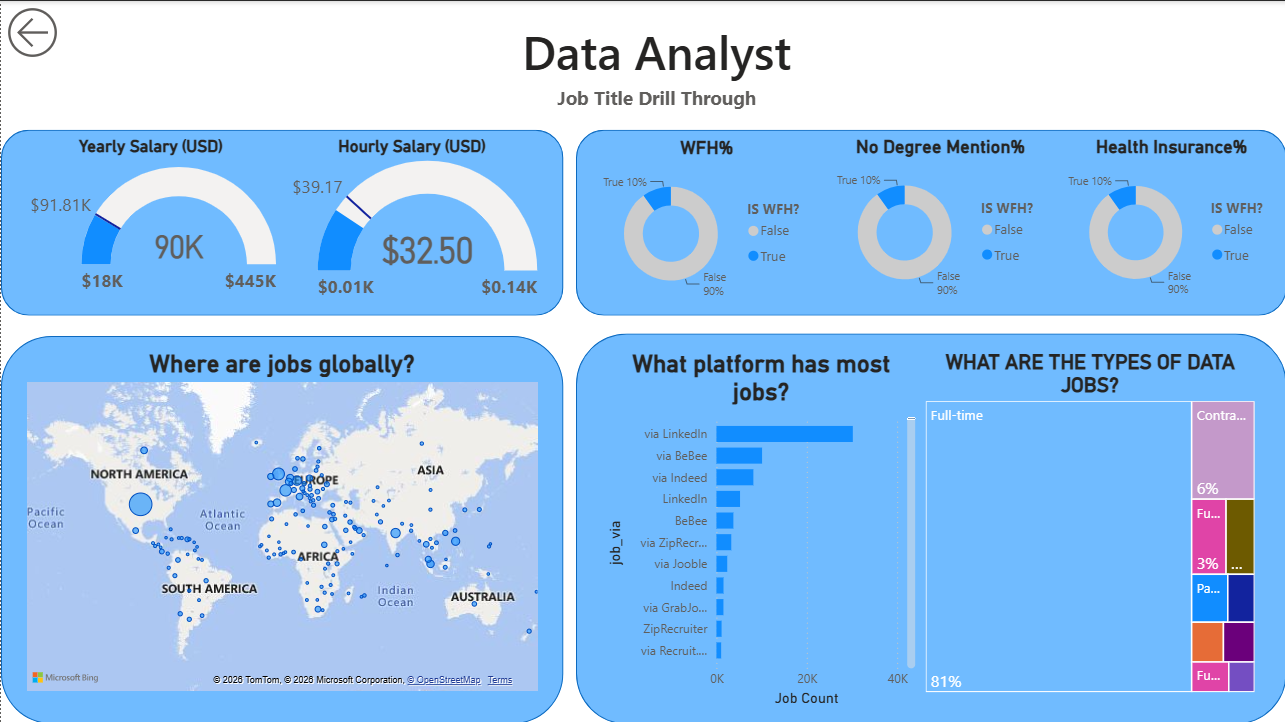

What the dashboard file says about the page in this screenshot:
{"tool":"powerbi","page":{"name":"Job Title Drill Through","canvas":[1280,720],"ordinal":1},"visuals":[{"type":"shape","box":[0,127.9,559.6,185.1],"z":0,"group":"g1"},{"type":"group","id":"g1","title":"Background","box":[0,127.9,1279.7,591.4],"z":500},{"type":"cardVisual","fields":{"Data":["Min(job_postings_flat.job_title_short)1"]},"box":[354.2,0,596.8,126.9],"z":1000},{"type":"shape","box":[572.6,127.9,707.1,185.1],"z":1000,"group":"g1"},{"type":"actionButton","box":[0,0,72.5,62.7],"z":2000},{"type":"shape","box":[0,333.2,559.6,386.1],"z":2000,"group":"g1"},{"type":"gauge","title":"Hourly Salary (USD)","fields":{"MinValue":["Min(job_postings_flat.salary_hour_avg)1"],"MaxValue":["Max(job_postings_flat.salary_hour_avg)"],"TargetValue":["Avg(job_postings_flat.salary_hour_avg)"],"Y":["Median(job_postings_flat.salary_hour_avg)"]},"box":[279.1,134.5,260.3,172.1],"z":3000},{"type":"gauge","title":"Yearly Salary (USD)","fields":{"Y":["Median(job_postings_flat.salary_year_avg)"],"MinValue":["Min(job_postings_flat.salary_year_avg)"],"MaxValue":["Max(job_postings_flat.salary_year_avg)1"],"TargetValue":["Avg(job_postings_flat.salary_year_avg)2"]},"box":[18.8,134.5,260.3,172.1],"z":4000},{"type":"shape","box":[572.6,330.3,707.1,389],"z":4000,"group":"g1"},{"type":"donutChart","title":"WFH%","fields":{"Category":["job_postings_flat.job_work_from_home"],"Y":["CountNonNull(job_postings_flat.job_work_from_home)"]},"box":[585.3,135.1,232.9,171.5],"z":5000},{"type":"donutChart","title":"Health Insurance%","fields":{"Category":["job_postings_flat.job_work_from_home"],"Y":["CountNonNull(job_postings_flat.job_work_from_home)"]},"box":[1049.8,134.5,230.1,171.5],"z":6000},{"type":"donutChart","title":"No Degree Mention%","fields":{"Category":["job_postings_flat.job_work_from_home"],"Y":["CountNonNull(job_postings_flat.job_work_from_home)"]},"box":[818.4,134.5,232.9,171.5],"z":7000},{"type":"map","title":"Where are jobs globally?","fields":{"Category":["job_postings_flat.job_country"],"Size":["CountNonNull(job_postings_flat.job_title_short)"]},"box":[21.7,347,517.7,345.6],"z":8000},{"type":"treemap","title":"WHAT ARE THE TYPES OF DATA JOBS?","fields":{"Group":["job_postings_flat.job_schedule_type"],"Values":["CountNonNull(job_postings_flat.job_schedule_type)"]},"box":[915.3,347,336.9,345.6],"z":9000},{"type":"barChart","title":"What platform has most jobs?","fields":{"Category":["job_postings_flat.job_via"],"Y":["CountNonNull(job_postings_flat.job_via)"]},"box":[598.7,347,316.7,360.1],"z":10000}]}

Visuals, with their boxes in screenshot pixels (x1, y1, x2, y2), scaled from the page's 1280x720 canvas onto the 1285x722 screenshot:
shape: l=0, t=128, r=562, b=314
"Background" group: l=0, t=128, r=1284, b=721
cardVisual - Min(job_postings_flat.job_title_short)1: l=356, t=0, r=955, b=127
shape: l=575, t=128, r=1284, b=314
actionButton: l=0, t=0, r=73, b=63
shape: l=0, t=334, r=562, b=721
"Hourly Salary (USD)" gauge: l=280, t=135, r=542, b=307
"Yearly Salary (USD)" gauge: l=19, t=135, r=280, b=307
shape: l=575, t=331, r=1284, b=721
"WFH%" donutChart: l=588, t=135, r=821, b=307
"Health Insurance%" donutChart: l=1054, t=135, r=1284, b=307
"No Degree Mention%" donutChart: l=822, t=135, r=1055, b=307
"Where are jobs globally?" map: l=22, t=348, r=542, b=695
"WHAT ARE THE TYPES OF DATA JOBS?" treemap: l=919, t=348, r=1257, b=695
"What platform has most jobs?" barChart: l=601, t=348, r=919, b=709
